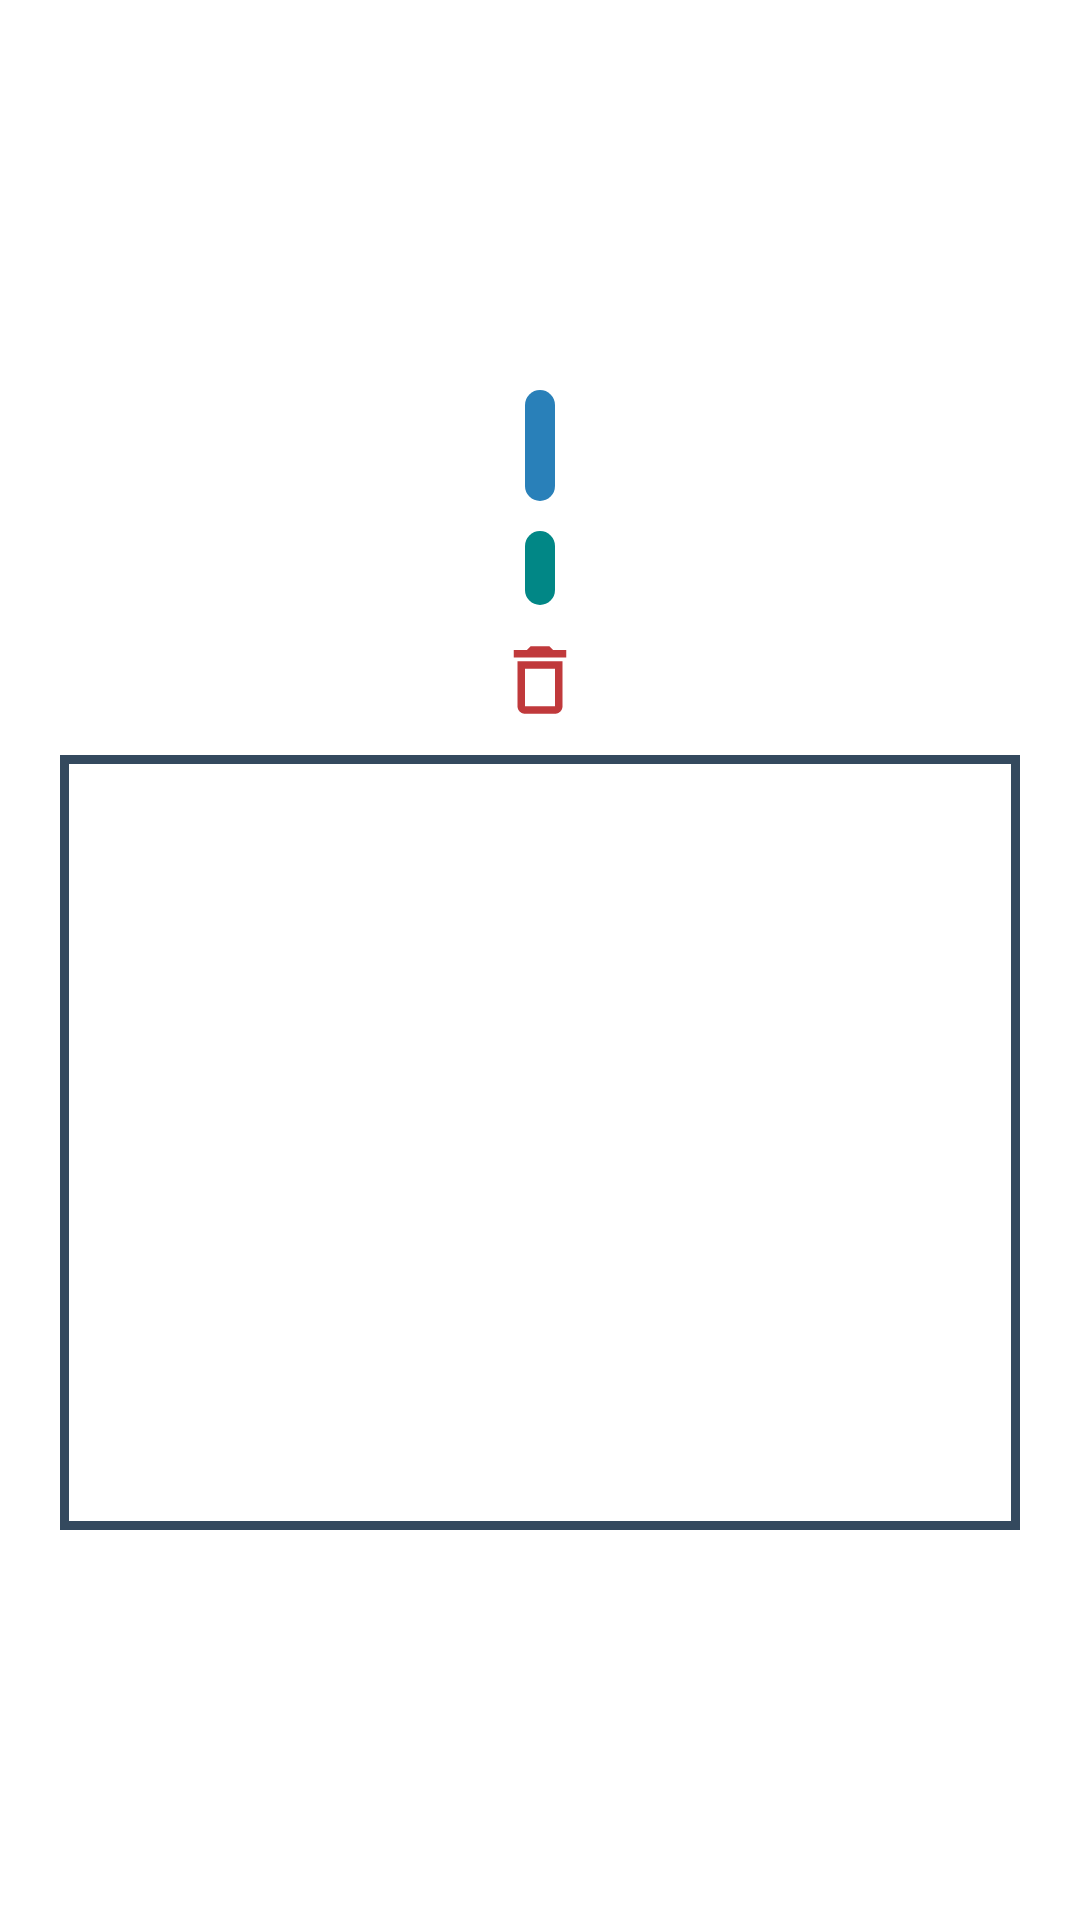

Point at icon controls on the screen. Image size 1080 x 1920, points as [x,y].
delete: [540,680]
